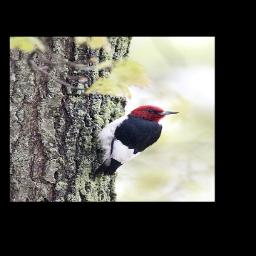Woodpecker: (94, 105, 180, 177)
